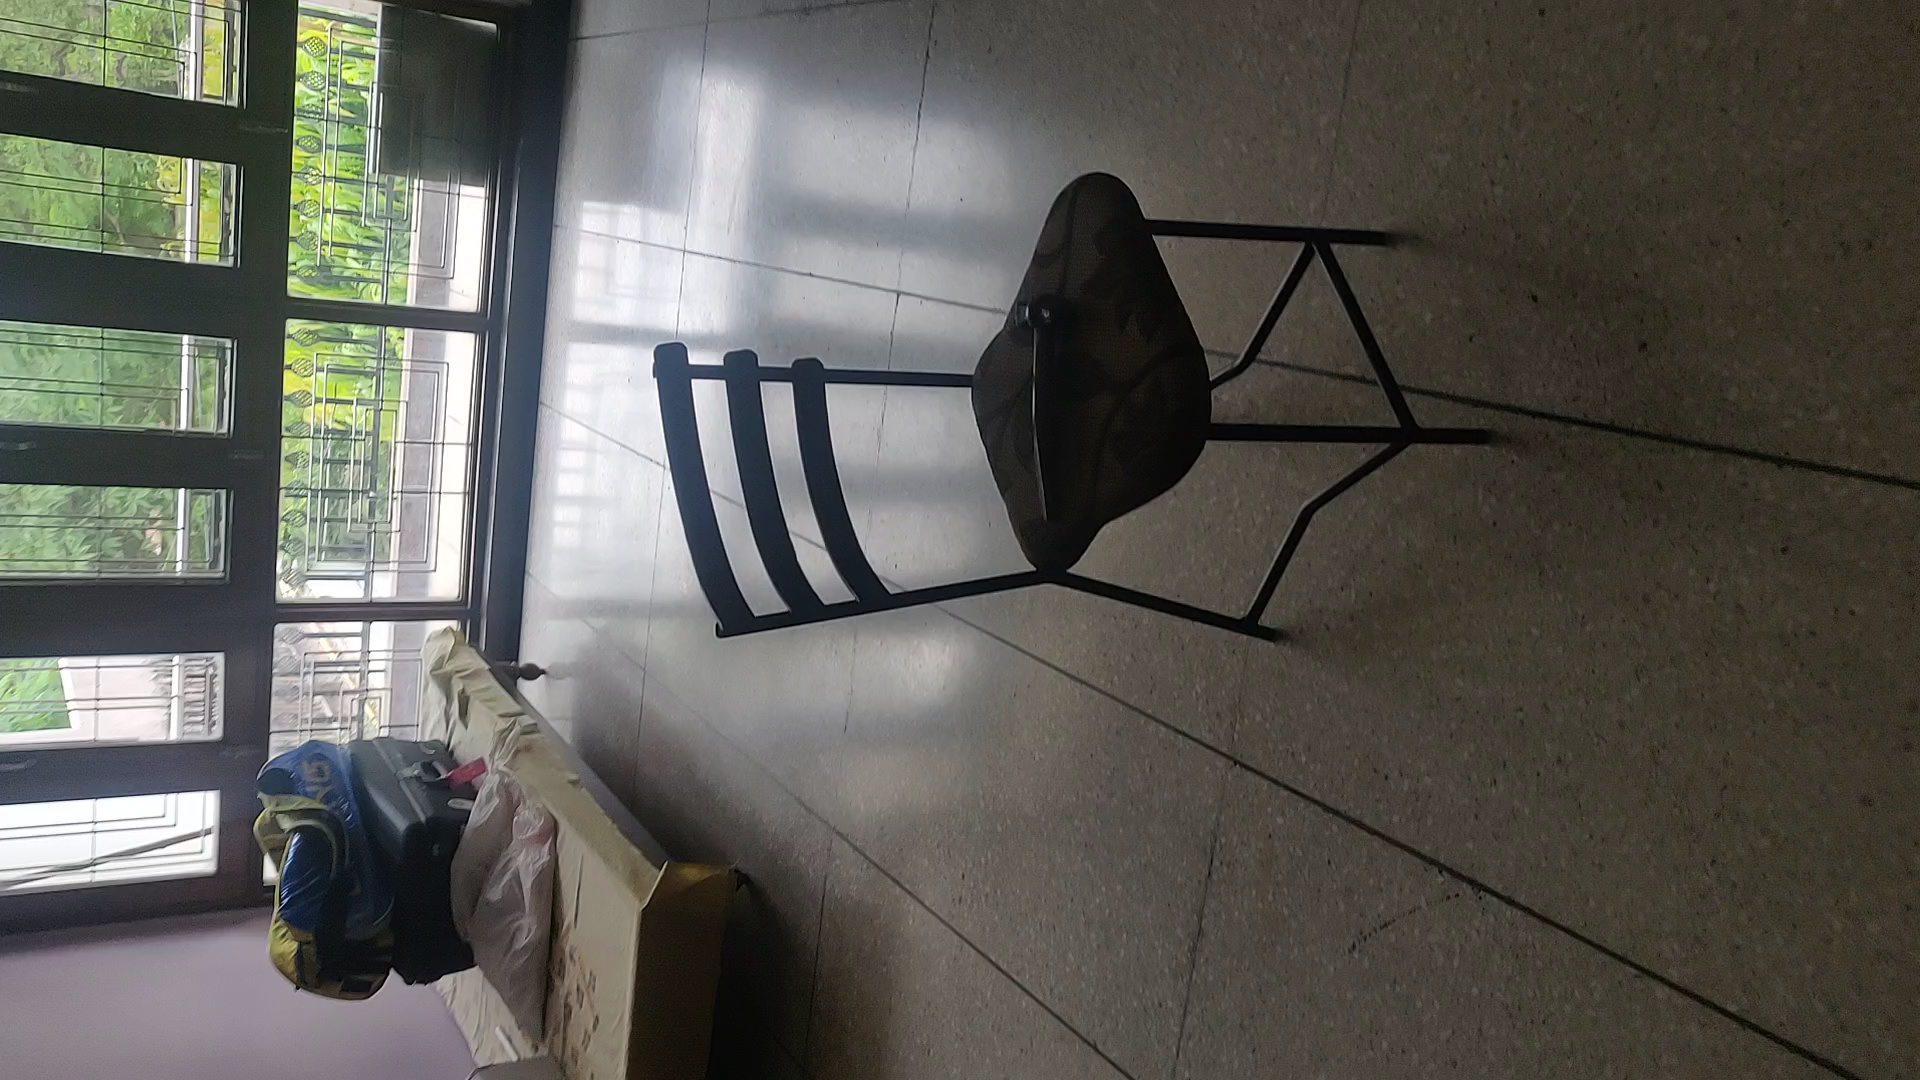hammer: (1009, 295, 1091, 525)
